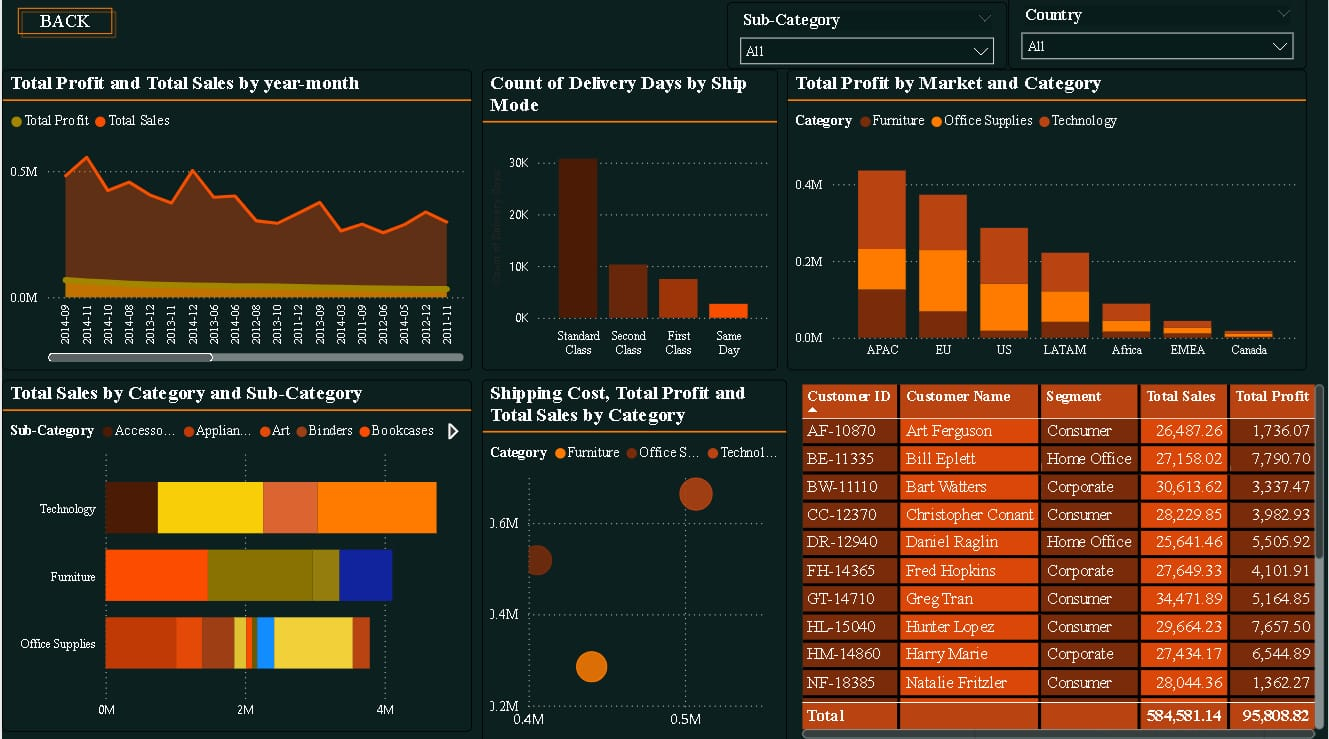

This screenshot's page, from the dashboard's own definition file:
{"tool":"powerbi","page":{"name":"Page 2","canvas":[1280,720],"ordinal":1},"visuals":[{"type":"columnChart","fields":{"Category":["Global_Superstore2.Market"],"Y":["Global_Superstore2.Total Profit"],"Series":["Global_Superstore2.Category"]},"box":[757.3,69.5,501.2,290.2],"z":0},{"type":"clusteredBarChart","fields":{"Category":["Global_Superstore2.Ship Mode"],"Y":["Global_Superstore2.Total Orders","Global_Superstore2.Total Sales"]},"box":[938.6,440.4,279.9,279.9],"z":1000},{"type":"scatterChart","title":" Shipping Cost, Total Profit and Total Sales by Category","fields":{"X":["Global_Superstore2.Shipping Cost"],"Y":["Global_Superstore2.Total Profit"],"Series":["Global_Superstore2.Category"],"Size":["Global_Superstore2.Total Sales"]},"box":[463.3,369.2,294.4,351.1],"z":2000},{"type":"columnChart","fields":{"Category":["Global_Superstore2.Ship Mode"],"Y":["Global_Superstore2.Delivery Days"]},"box":[463.4,69.5,285.4,290.2],"z":3000},{"type":"tableEx","fields":{"Values":["Global_Superstore2.Customer ID","Global_Superstore2.Customer Name","Global_Superstore2.Segment","Global_Superstore2.Total Sales","Global_Superstore2.Total Profit"]},"box":[765.9,369.5,514.6,351.2],"z":4000},{"type":"lineChart","fields":{"Y":["Global_Superstore2.Total Profit","Global_Superstore2.Total Sales"],"Category":["Date.year-month"]},"box":[0,69.5,453.7,290.2],"z":5000},{"type":"barChart","fields":{"Category":["Global_Superstore2.Category"],"Y":["Global_Superstore2.Total Sales"],"Series":["Global_Superstore2.Sub-Category"]},"box":[0,369.2,453.6,340.2],"z":6000},{"type":"slicer","fields":{"Values":["Global_Superstore2.Country"]},"box":[970.7,0,287.8,69.5],"z":7000},{"type":"slicer","fields":{"Values":["Global_Superstore2.Sub-Category"]},"box":[700,4.9,270.7,64.6],"z":8000},{"type":"shape","box":[9.8,4.9,102.4,36.6],"z":9000}]}

Visuals, with their boxes in screenshot pixels (x1, y1, x2, y2), scaled from the page's 1280x720 canvas onto the 1329x739 screenshot:
columnChart - Global_Superstore2.Market x Global_Superstore2.Total Profit: (786,71,1307,369)
clusteredBarChart - Global_Superstore2.Ship Mode x Global_Superstore2.Total Orders: (975,452,1265,738)
" Shipping Cost, Total Profit and Total Sales by Category" scatterChart: (481,379,787,738)
columnChart - Global_Superstore2.Ship Mode x Global_Superstore2.Delivery Days: (481,71,777,369)
tableEx - Global_Superstore2.Customer ID x Global_Superstore2.Customer Name: (795,379,1328,738)
lineChart - Global_Superstore2.Total Profit x Global_Superstore2.Total Sales: (0,71,471,369)
barChart - Global_Superstore2.Category x Global_Superstore2.Total Sales: (0,379,471,728)
slicer - Global_Superstore2.Country: (1008,0,1307,71)
slicer - Global_Superstore2.Sub-Category: (727,5,1008,71)
shape: (10,5,116,43)
